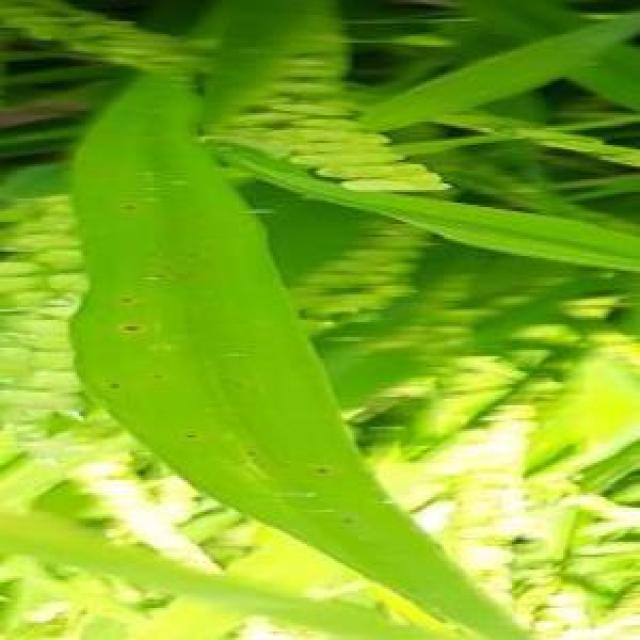Brown_Spot: (112, 322, 149, 336), (311, 460, 334, 481), (190, 431, 204, 447), (104, 383, 118, 393)
